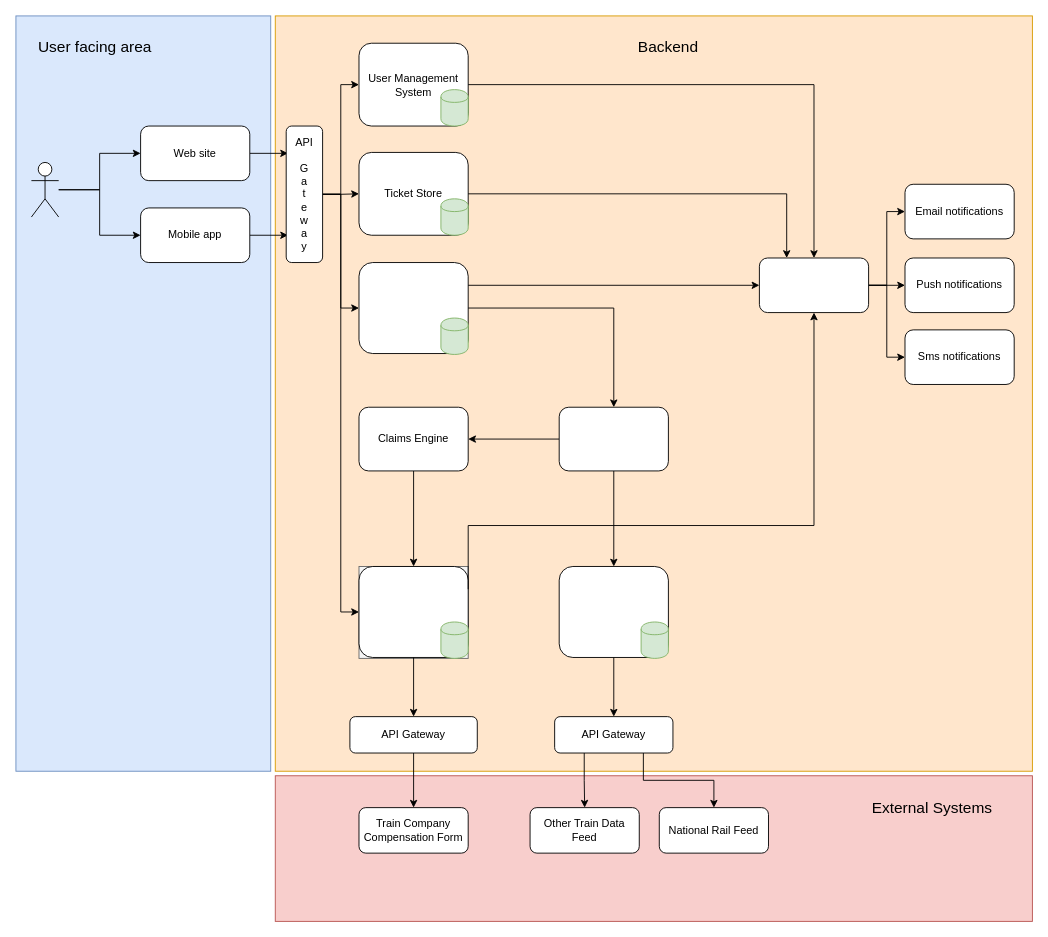
Image size: 1048x937. Some labels were removed from this diagram. Here are the shapes that lost their labels. From the top down, the box of each, then its label:
(30, 162, 59, 217): Actor
(758, 257, 869, 313): Message Bus
(358, 262, 468, 354): Journey Tracker
(558, 406, 668, 471): Journey Matching Engine
(358, 566, 468, 657): Claims Submission
(558, 566, 668, 657): Journey Data Aggregator
